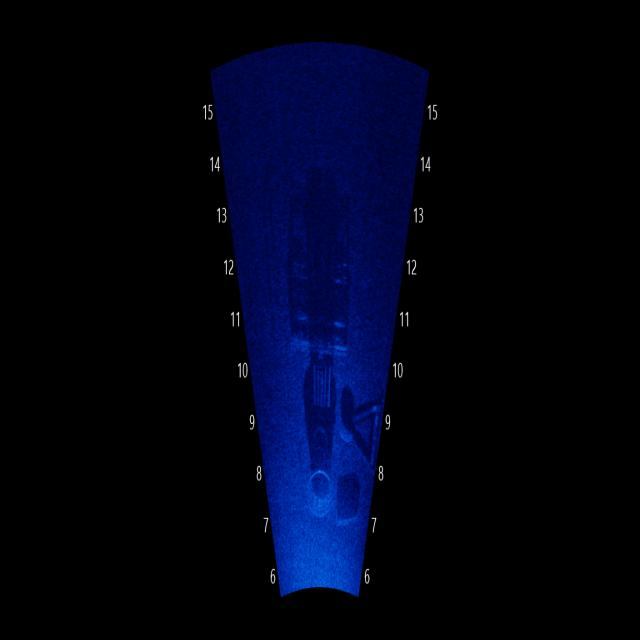circle: (297, 460, 334, 544)
square: (280, 172, 364, 368)
